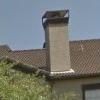Chimney: (34, 2, 77, 76)
